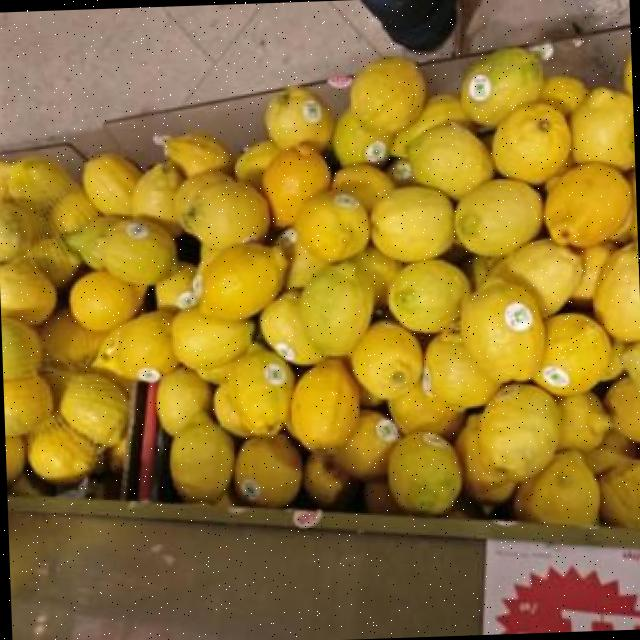lemon: (461, 276, 544, 381), (478, 383, 558, 481), (213, 342, 293, 434), (176, 170, 269, 249), (488, 237, 581, 316), (544, 163, 630, 246), (298, 261, 373, 355), (198, 242, 286, 319), (407, 121, 492, 198), (490, 102, 570, 183), (513, 449, 597, 526), (454, 178, 540, 253), (460, 47, 542, 124), (369, 185, 453, 260), (532, 313, 608, 394), (290, 358, 357, 449), (348, 56, 425, 135), (387, 258, 469, 331), (93, 309, 176, 381), (0, 317, 51, 434), (422, 330, 497, 408), (388, 431, 460, 512), (350, 320, 421, 398), (453, 414, 515, 501), (569, 87, 635, 168), (293, 192, 367, 261), (170, 307, 252, 368), (170, 420, 232, 500), (99, 219, 175, 284), (389, 94, 468, 156), (233, 434, 300, 506), (592, 242, 640, 341), (260, 289, 322, 364), (60, 372, 126, 442), (68, 270, 144, 330), (28, 414, 95, 480), (333, 409, 398, 477), (264, 86, 332, 149), (387, 381, 462, 438), (39, 308, 104, 367), (155, 367, 209, 434), (81, 153, 140, 214), (6, 156, 78, 205), (0, 260, 55, 324), (274, 227, 328, 287), (331, 110, 390, 164), (131, 161, 181, 224), (557, 391, 611, 449), (330, 163, 393, 211), (350, 246, 401, 304), (162, 133, 229, 176), (598, 460, 640, 528), (24, 236, 79, 285), (0, 317, 40, 378), (603, 376, 640, 441), (571, 242, 613, 299), (303, 452, 347, 504), (584, 429, 635, 473), (0, 201, 37, 261), (233, 139, 279, 186), (50, 189, 97, 234), (154, 262, 197, 308), (539, 75, 587, 112), (362, 479, 397, 510), (619, 341, 640, 391), (600, 340, 625, 380), (199, 242, 220, 273), (621, 53, 630, 95), (0, 161, 9, 201)
